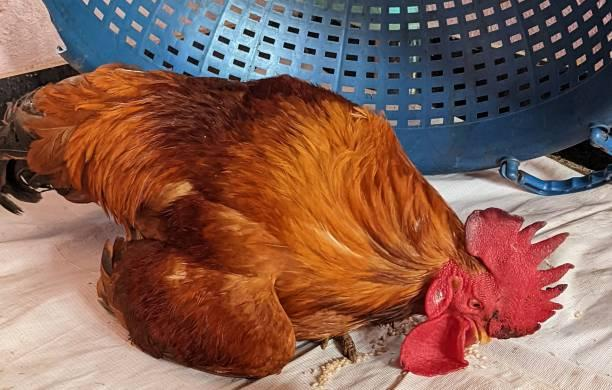AbNormal: (6, 66, 580, 379)
